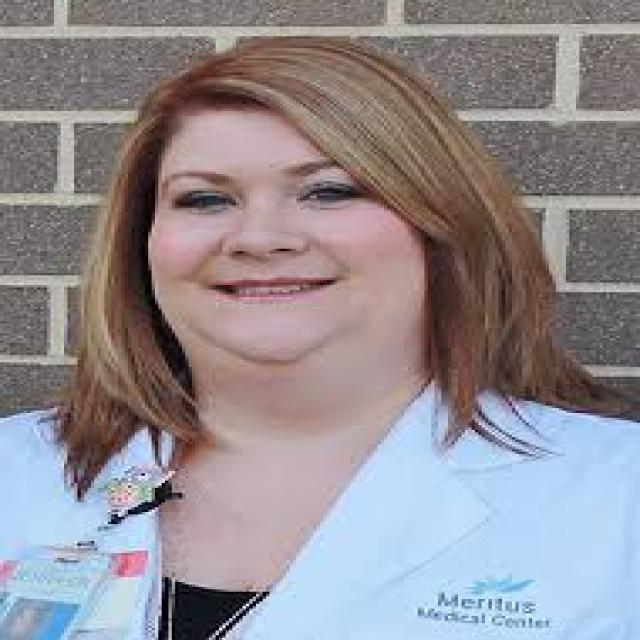normal_face: (120, 108, 443, 391)
